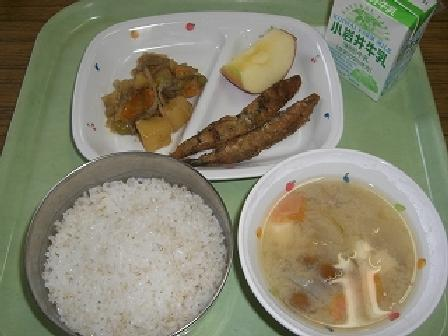Apple: (218, 19, 309, 91)
Milk: (325, 0, 429, 90)
Rice: (37, 160, 226, 330)
Soups: (252, 155, 433, 333)
fried fish: (190, 82, 327, 166)
vegetable based cooked food: (100, 50, 199, 145)
